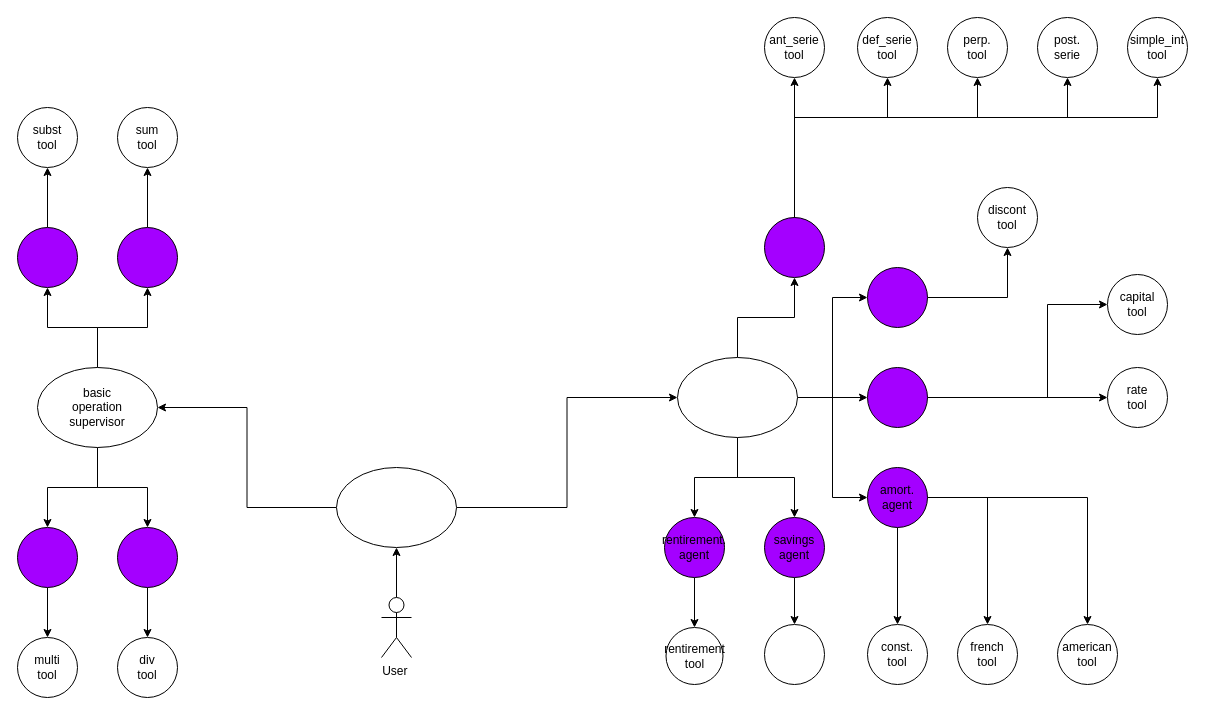
Image size: 1205x715. Some labels were removed from this diagram. The centre of each missing label's shape, as x and y in pixels:
"calculator finantial supervisor" belongs at pixel 396 507.
"discont agent" belongs at pixel 897 297.
"div agent" belongs at pixel 147 557.
"equiv. agent" belongs at pixel 897 397.
"finantial operation supervisor" belongs at pixel 737 397.
"interest agent" belongs at pixel 794 247.
"multi. agent" belongs at pixel 47 557.
"savings tool" belongs at pixel 794 654.
"subst. agent" belongs at pixel 47 257.
"sum agent" belongs at pixel 147 257.
